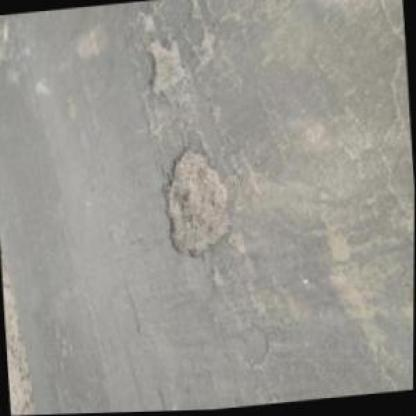pothole: (158, 141, 234, 261), (141, 34, 186, 102)
